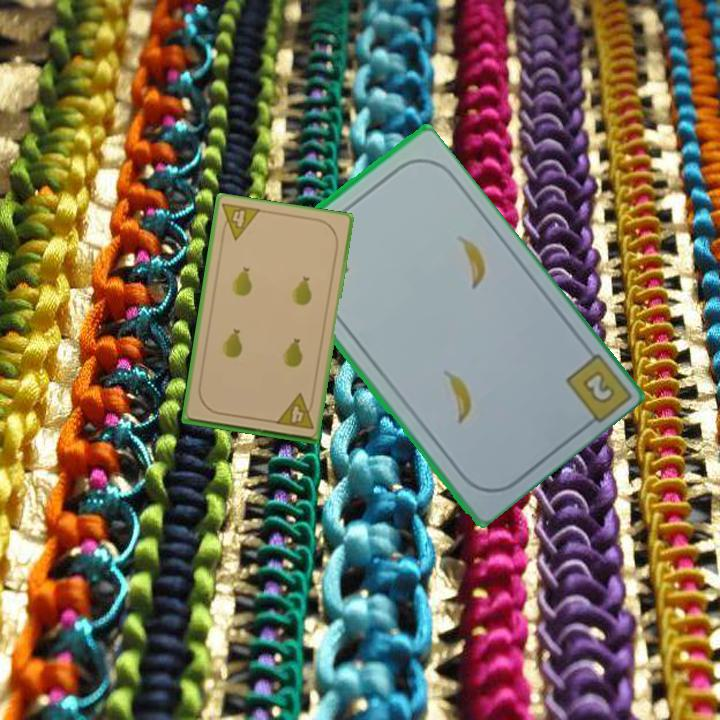2b: (578, 366, 618, 407)
4p: (217, 200, 263, 243), (272, 391, 317, 431)
